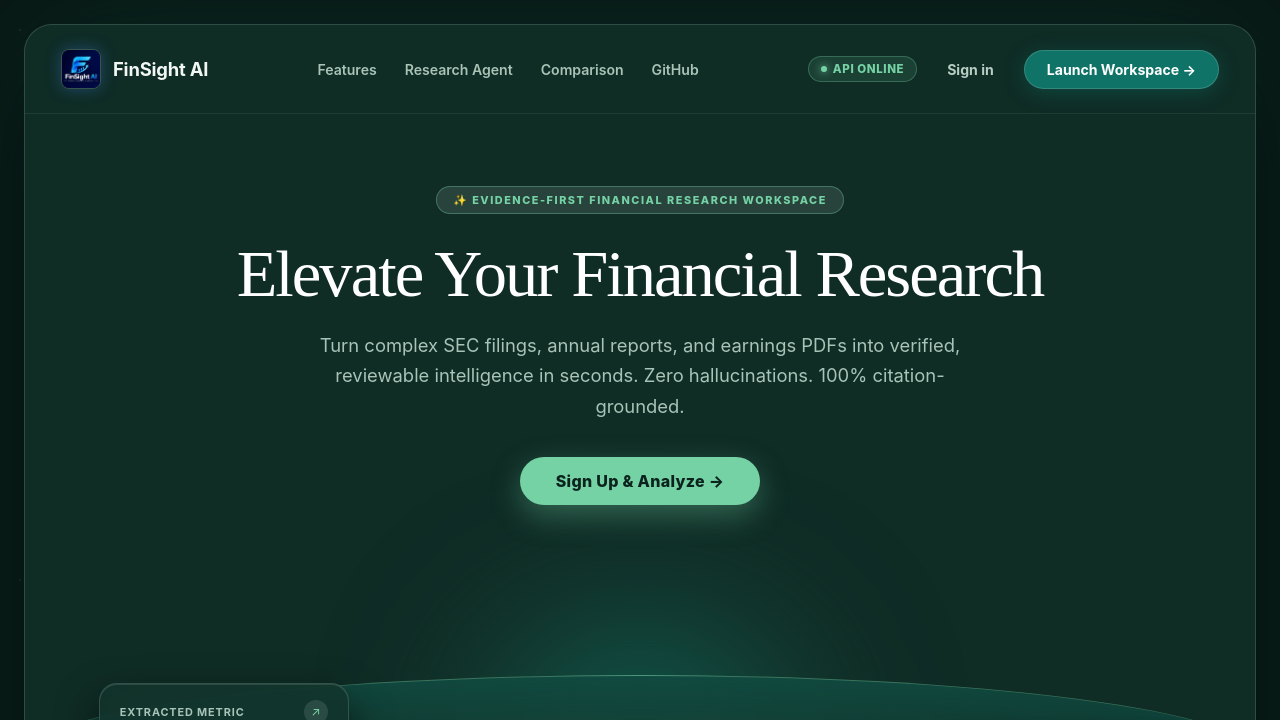
Test: FinSight dashboard › shows a generic sign-in error if the identity provider redirect fails
What coordinates should you click on to do the following:
click the button "Sign in"
I would click on:
 (970, 69)
Its box is [931, 52, 1010, 86].
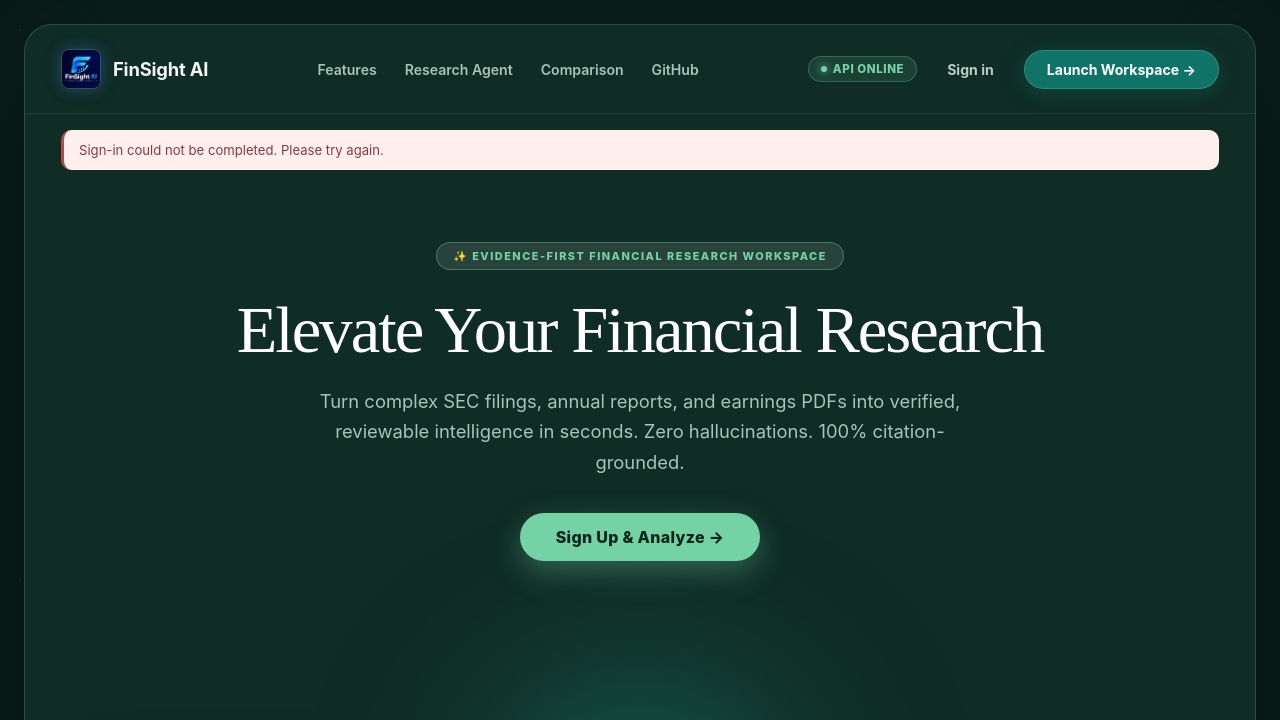
Expected: the message does not show "synthetic provider failure", [61, 130, 1219, 170]
Expected: the message "Sign-in could not be completed. Please try again." is shown, [61, 130, 1219, 170]
Expected: the message shows "Sign-in could not be completed.", [79, 142, 384, 158]
